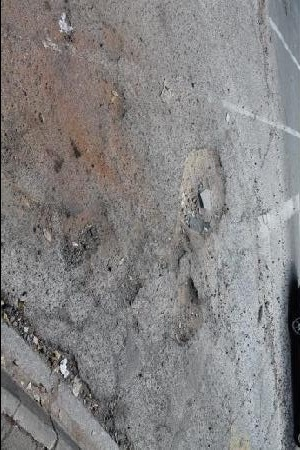pothole: (0, 290, 113, 449), (175, 144, 228, 244), (163, 275, 204, 346), (59, 203, 101, 270)
